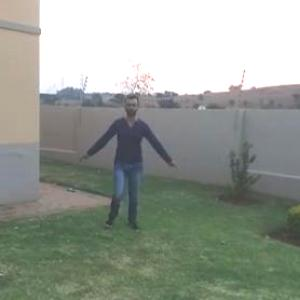land: (77, 89, 188, 230)
